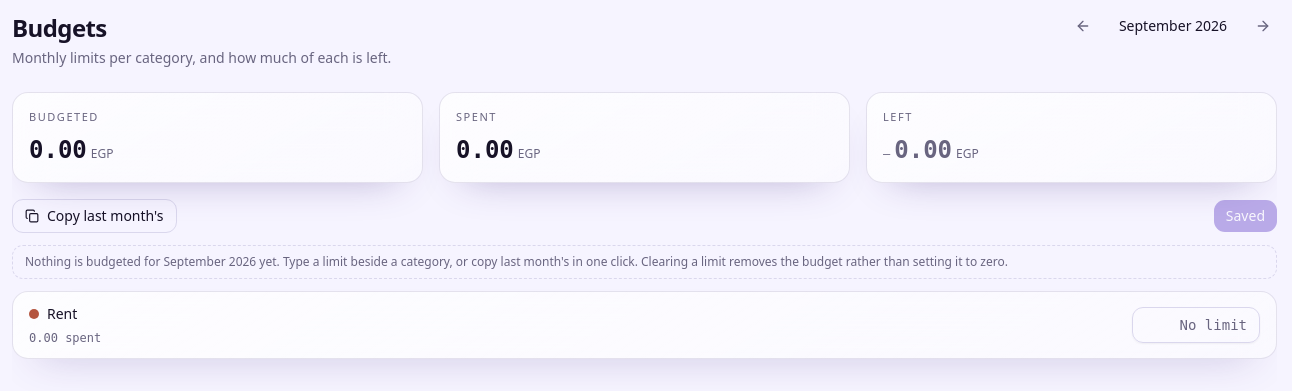
Scenario: saving limits › only offers to save once something has actually changed
Expected: the button "Saved" is disabled, x1=1214 y1=200 x2=1277 y2=232
Type "1" into the field with placeholder "No limit" at (1196, 324), box x1=1132 y1=306 x2=1260 y2=342
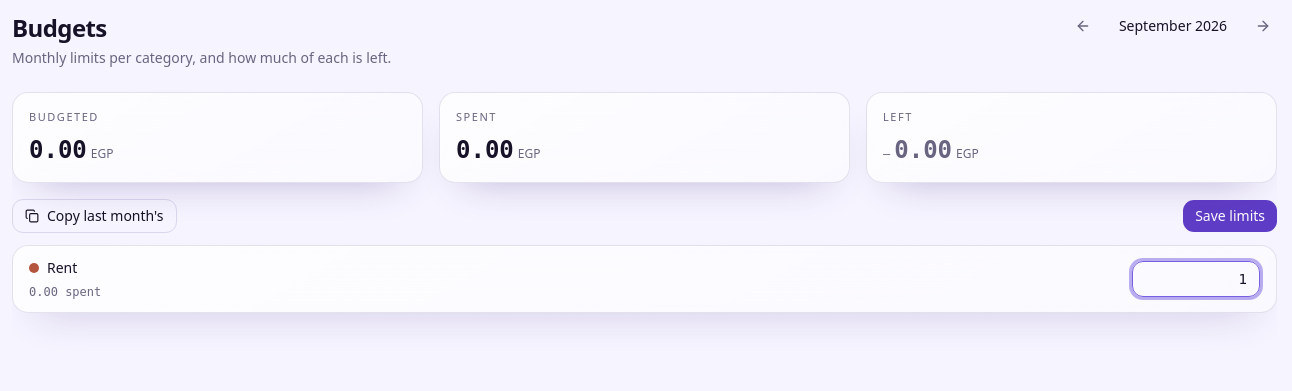
Expected: the button "Save limits" is enabled, x1=1183 y1=200 x2=1277 y2=232
